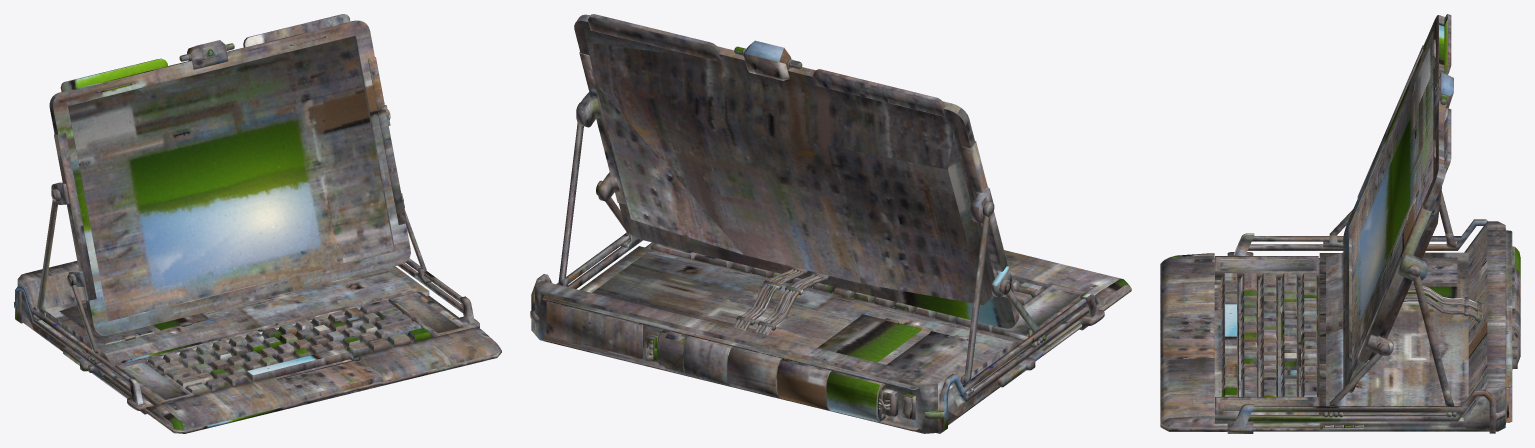
3 renders of one model, left to right at view 1: azimuth 30°, elevation 25°; view 2: azimuth 150°, elevation 25°; view 3: azimuth 270°, elevation 25°, orthographic. The views are drawn at different scales.
Visible parts, largest first — view 1: texture_v100.003; view 2: texture_v100.003; view 3: texture_v100.003.
Part boxes in pixels (x1,y1,x2,y2): texture_v100.003: (14, 14, 501, 433); texture_v100.003: (530, 14, 1131, 433); texture_v100.003: (1160, 14, 1520, 433).
Size of the model in its own units: 2 by 1.43 by 1.72.
Materials: 1 (1 with a texture image).
